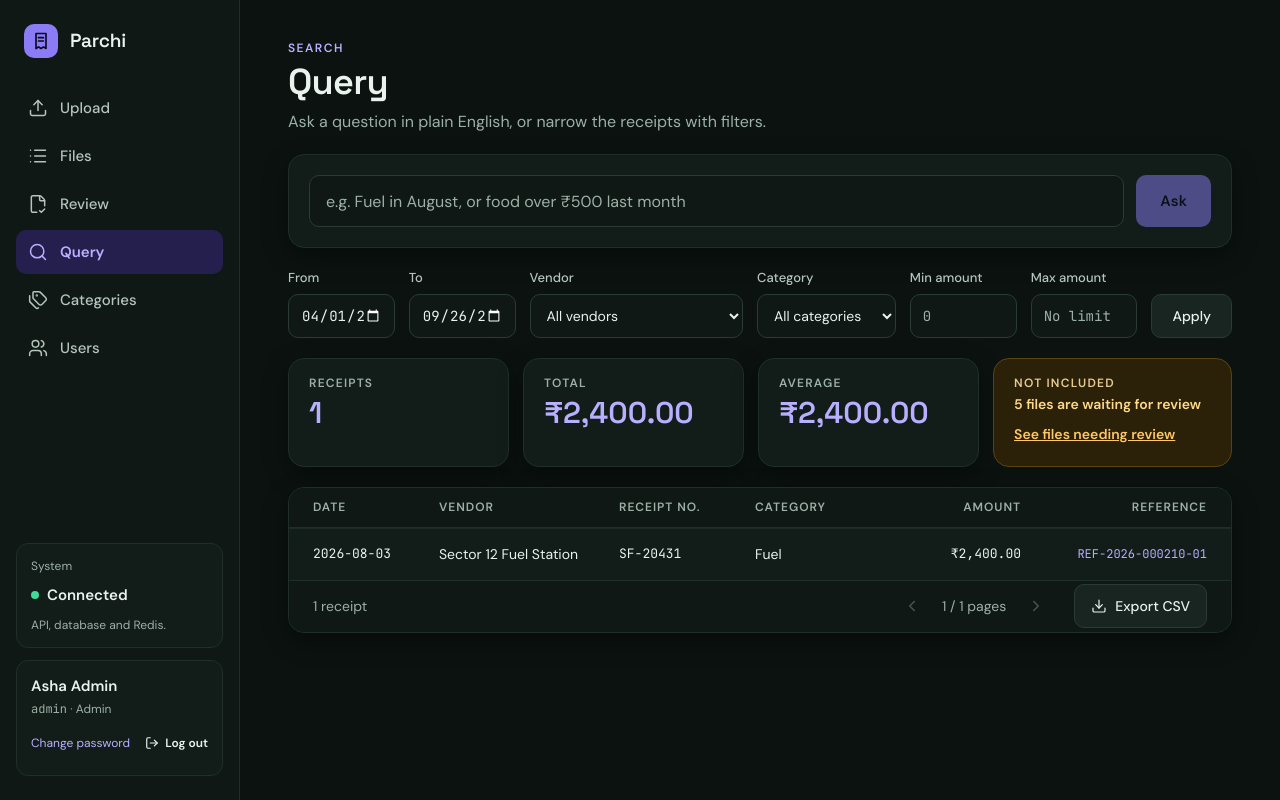
Test case: Query page › shows how a question was read, the SQL that ran, and fills the filters
This screenshot has width=1280, height=800.
Check: the cell "Sector 12 Fuel Station" is shown, box [439,545,578,563]
In the field named "Ask about your receipts": [717, 201] box [309,175,1124,227], type "fuel in August urgently"
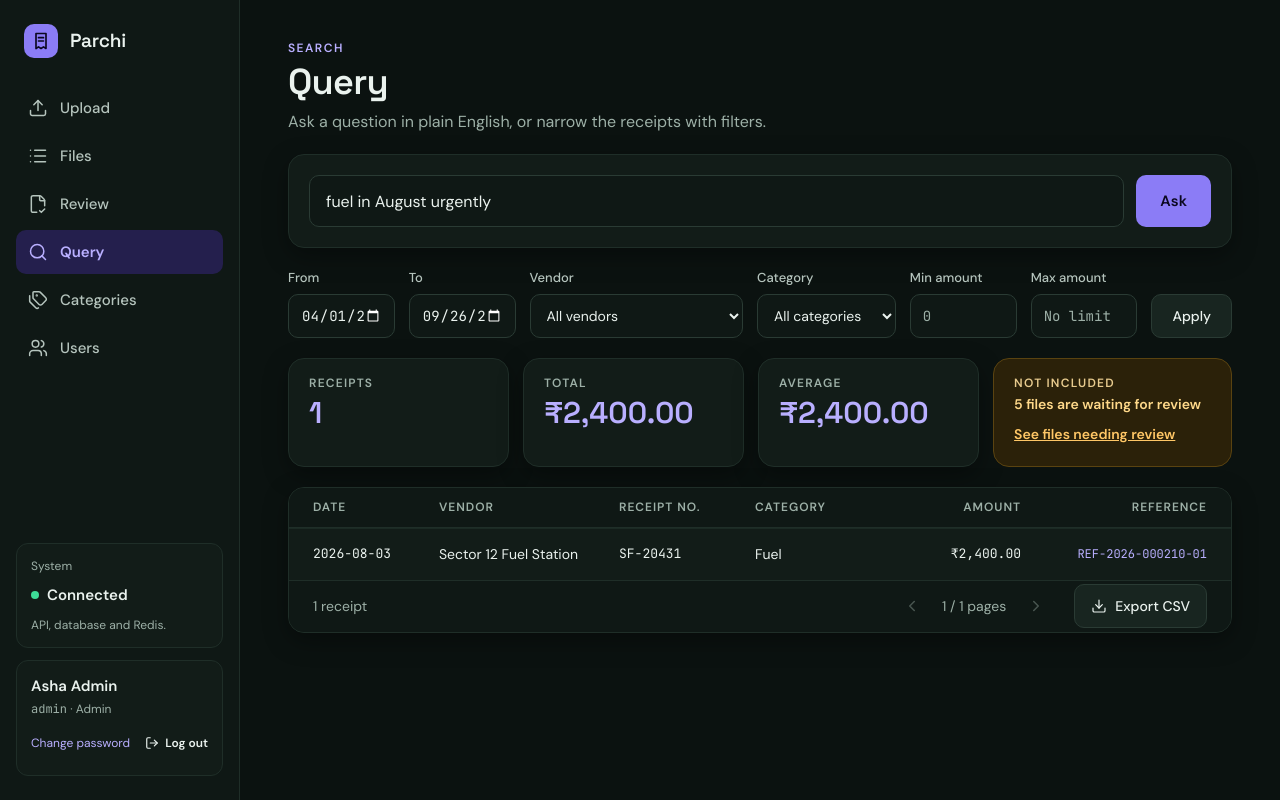
Click the button "Ask": [1174, 201] box [1136,175,1211,227]
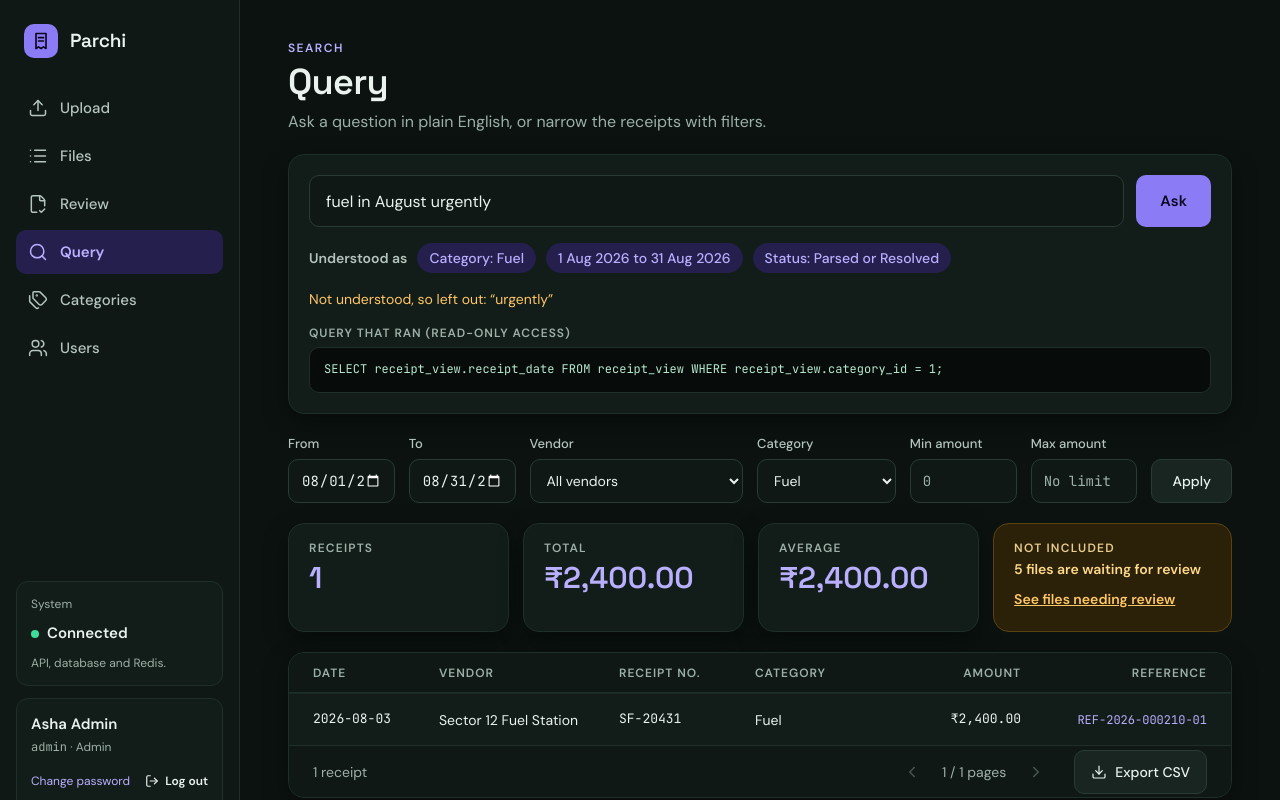
Check: the text "Category: Fuel" is shown, box [417,243,536,273]
Check: the text "1 Aug 2026 to 31 Aug 2026" is shown, box [546,243,743,273]
Check: the text "Status: Parsed or Resolved" is shown, box [752,243,951,273]
